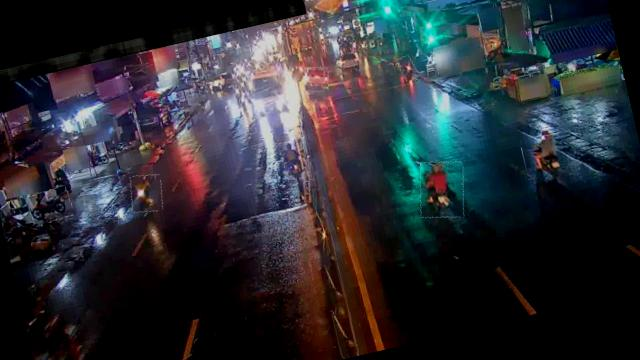Bike: (413, 156, 472, 224), (520, 130, 580, 181), (27, 184, 75, 226), (126, 172, 166, 216), (280, 137, 315, 186), (398, 54, 418, 82), (232, 81, 245, 105)
Bus: (247, 65, 290, 116)
Car: (302, 64, 332, 94)
